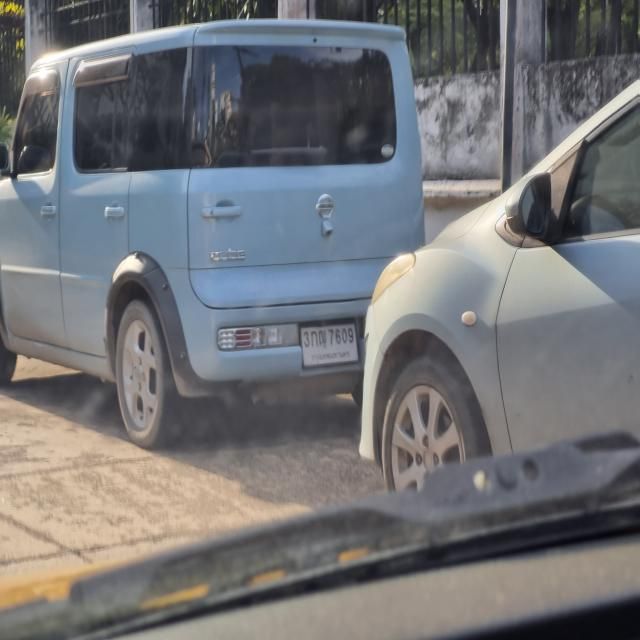license_plate: (300, 318, 362, 372)
